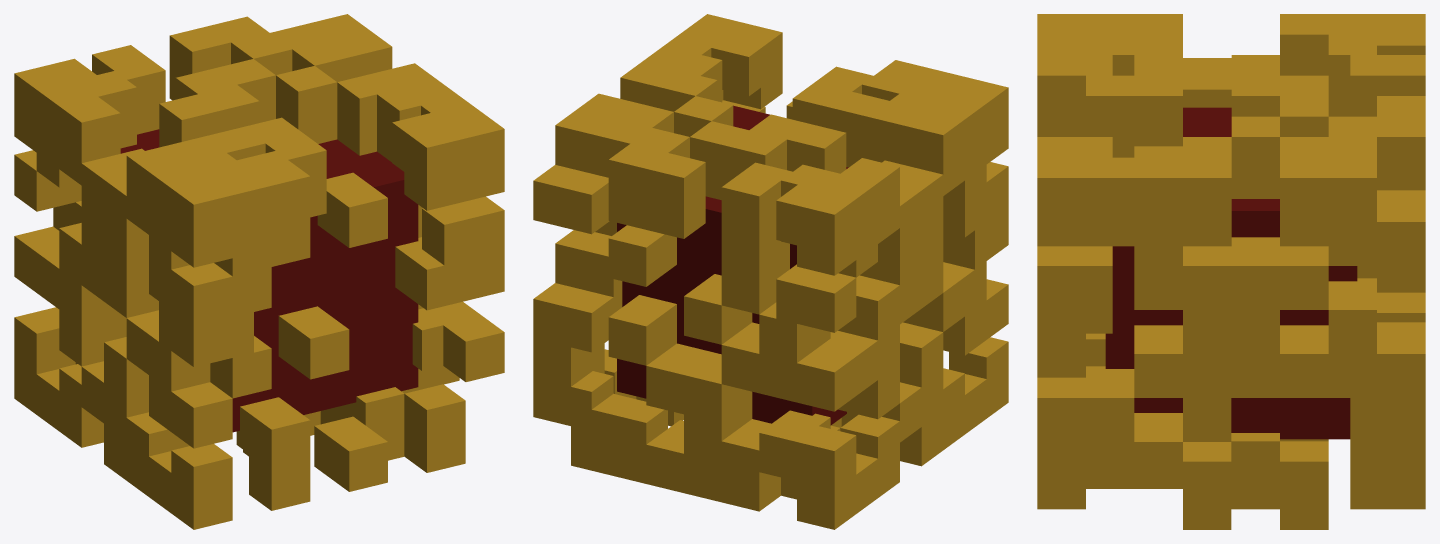
The model's file is BarrierPiece.fbx.
The picture shows the model from 3 angles, left to right: view 1: azimuth 30°, elevation 25°; view 2: azimuth 150°, elevation 25°; view 3: azimuth 270°, elevation 25°; orthographic projection. The views are drawn at different scales.
Parts seen in each view (by area): view 1: BarrierPiece; view 2: BarrierPiece; view 3: BarrierPiece.
Boxes of the visible parts, left/top/right/bottom form: BarrierPiece: left=14, top=14, right=504, bottom=529; BarrierPiece: left=533, top=14, right=1008, bottom=529; BarrierPiece: left=1037, top=14, right=1425, bottom=529.
Bounding box in the file's own units: 101468 × 101468 × 101468.
Materials: 1 (1 with a texture image).
